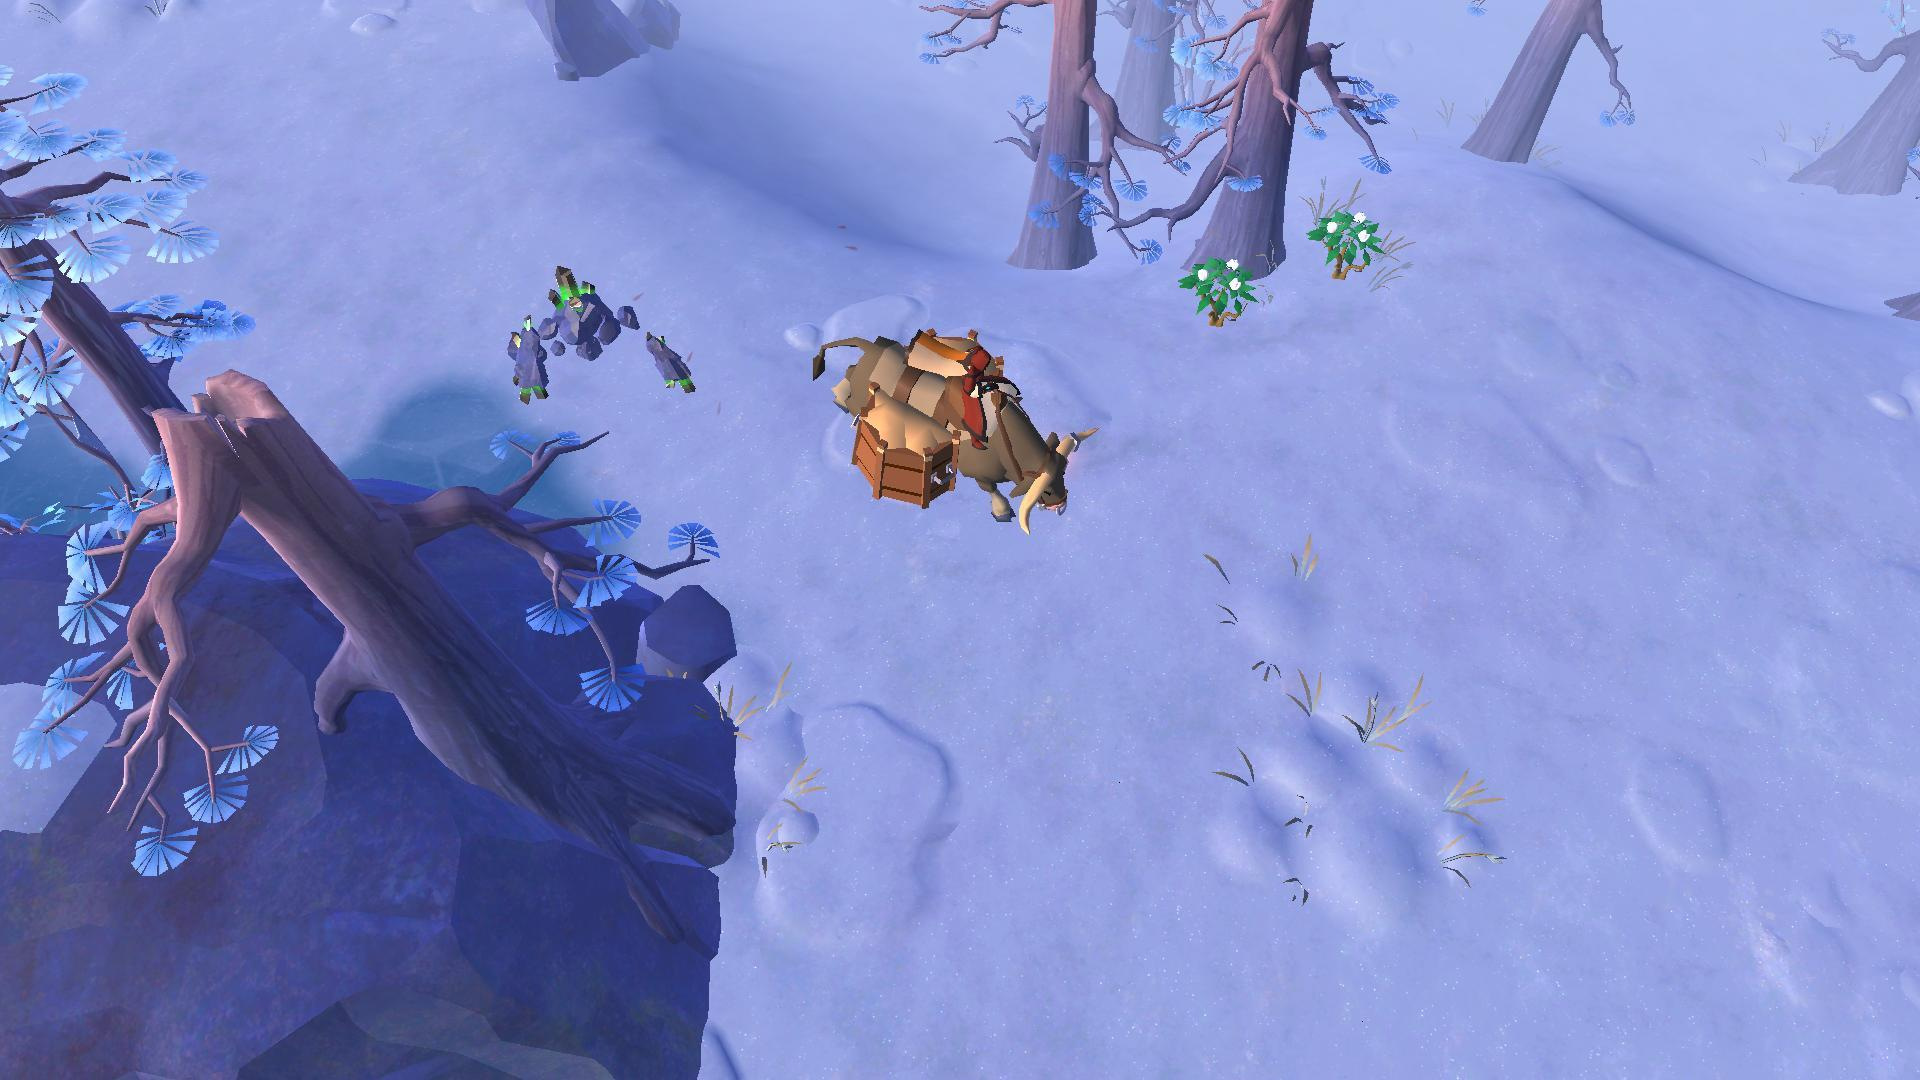fiber_t3: (1172, 252, 1253, 331), (1300, 207, 1387, 280)
